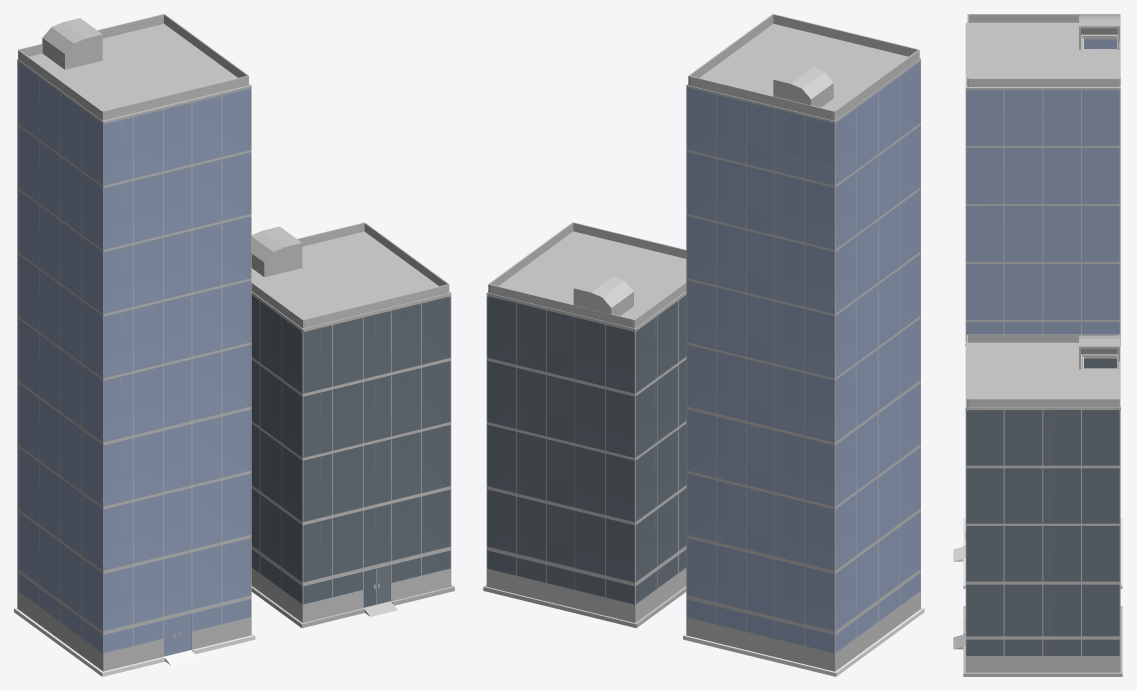
The model's file is buildings.gltf.
3 views of the same model, side by side, from view 1: azimuth 30°, elevation 25°; view 2: azimuth 150°, elevation 25°; view 3: azimuth 270°, elevation 25° (orthographic). The views are drawn at different scales.
Parts seen in each view (by area): view 1: Building, Walls, Ceiling, Building.001, Cube, Roof Entrance, Border; view 2: Building, Walls, Ceiling, Building.001, Cube, Roof Entrance, Border; view 3: Building, Walls, Ceiling, Building.001, Cube, Roof Entrance, Border.
Boxes of the visible parts, box(x1,y1,x2,y2) form: Building: box(17, 24, 251, 671); Walls: box(251, 293, 454, 628); Ceiling: box(251, 222, 451, 332); Building.001: box(18, 14, 248, 120); Cube: box(42, 18, 102, 69); Roof Entrance: box(251, 226, 302, 277); Border: box(14, 608, 255, 676); Building: box(686, 23, 920, 671); Walls: box(483, 293, 686, 628); Ceiling: box(486, 222, 686, 332); Building.001: box(688, 14, 919, 120); Cube: box(773, 63, 833, 107); Roof Entrance: box(573, 272, 633, 315); Border: box(683, 607, 924, 676); Building: box(965, 22, 1120, 341); Walls: box(953, 358, 1122, 676); Ceiling: box(965, 334, 1120, 411); Building.001: box(967, 14, 1120, 86); Cube: box(1079, 15, 1119, 49); Roof Entrance: box(1079, 335, 1119, 369); Border: box(953, 518, 1122, 588).
Size of the model in its own units: 27.38 by 43.03 by 12.63.
